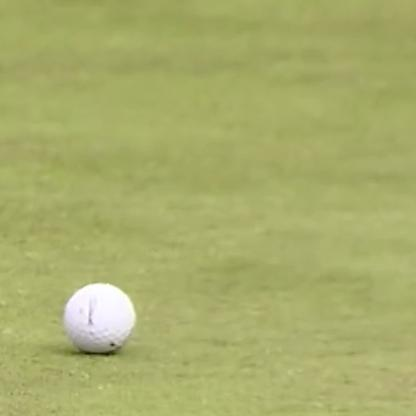golfball: (65, 279, 135, 350)
